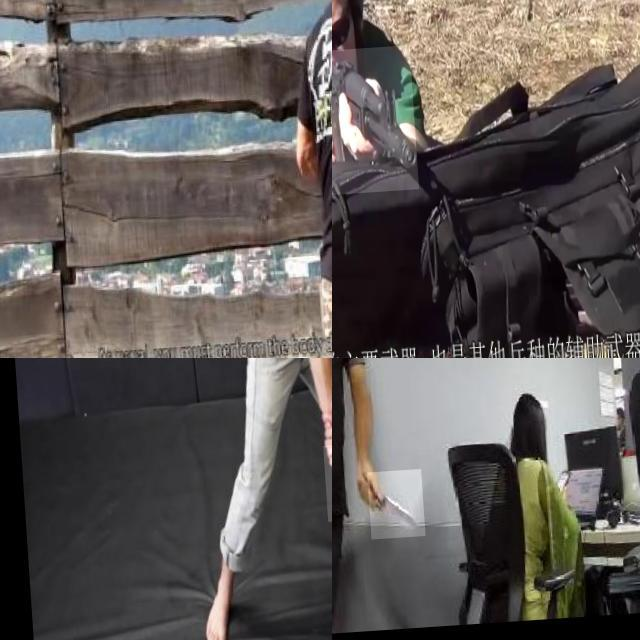-: (360, 474, 418, 544), (318, 446, 332, 526)
gun-knife-thesis - v11 Yolov5 augmented: (332, 49, 413, 199)
